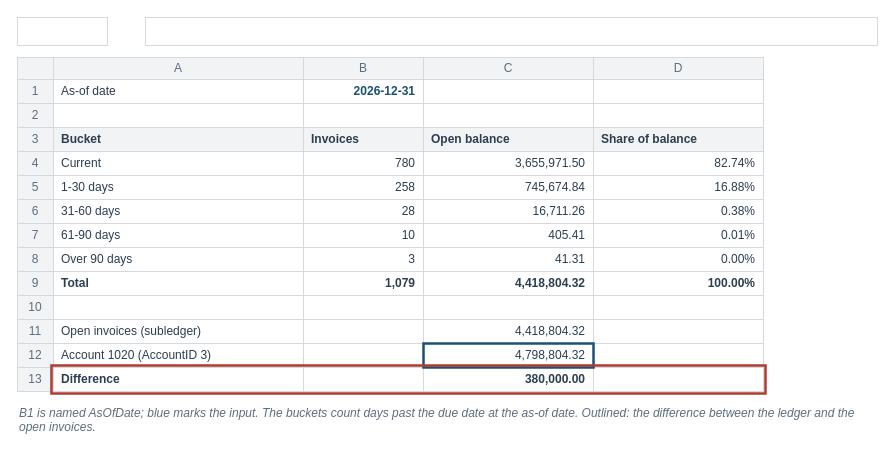
This 895x459 diagram has some shape labels left out. The box of each missing label's shape, as (x1, y1, x2, y2) in pixels:
=SUMIFS(LedgerAR[Amount],LedgerAR[AccountID],3): (144, 16, 878, 46)
C12: (16, 16, 108, 46)
fx: (110, 16, 142, 46)
